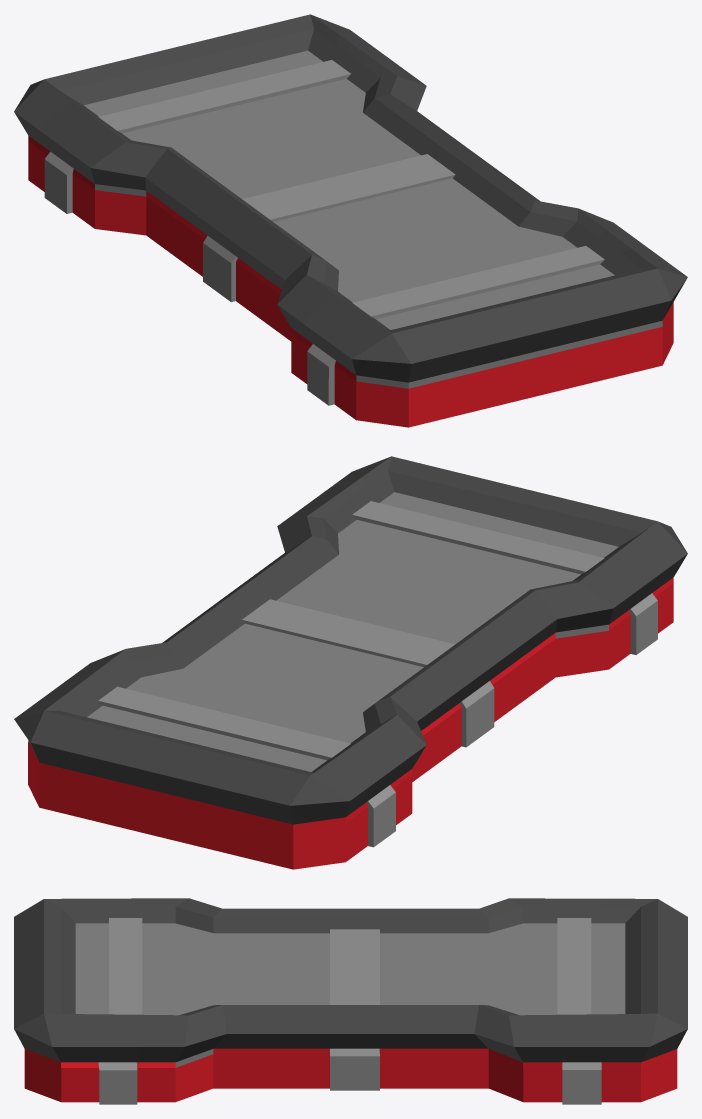
File: Top.fbx
The picture shows the model from 3 angles, top to bottom: view 1: azimuth 30°, elevation 25°; view 2: azimuth 150°, elevation 25°; view 3: azimuth 270°, elevation 25°; orthographic projection. The views are drawn at different scales.
Visible parts, largest first — view 1: Cube.004; view 2: Cube.004; view 3: Cube.004.
Part boxes in pixels (bbox=[...]): Cube.004: bbox=[14, 14, 687, 427]; Cube.004: bbox=[14, 456, 687, 869]; Cube.004: bbox=[14, 898, 687, 1104].
Bounding box in the file's own units: 452 × 114 × 887.
